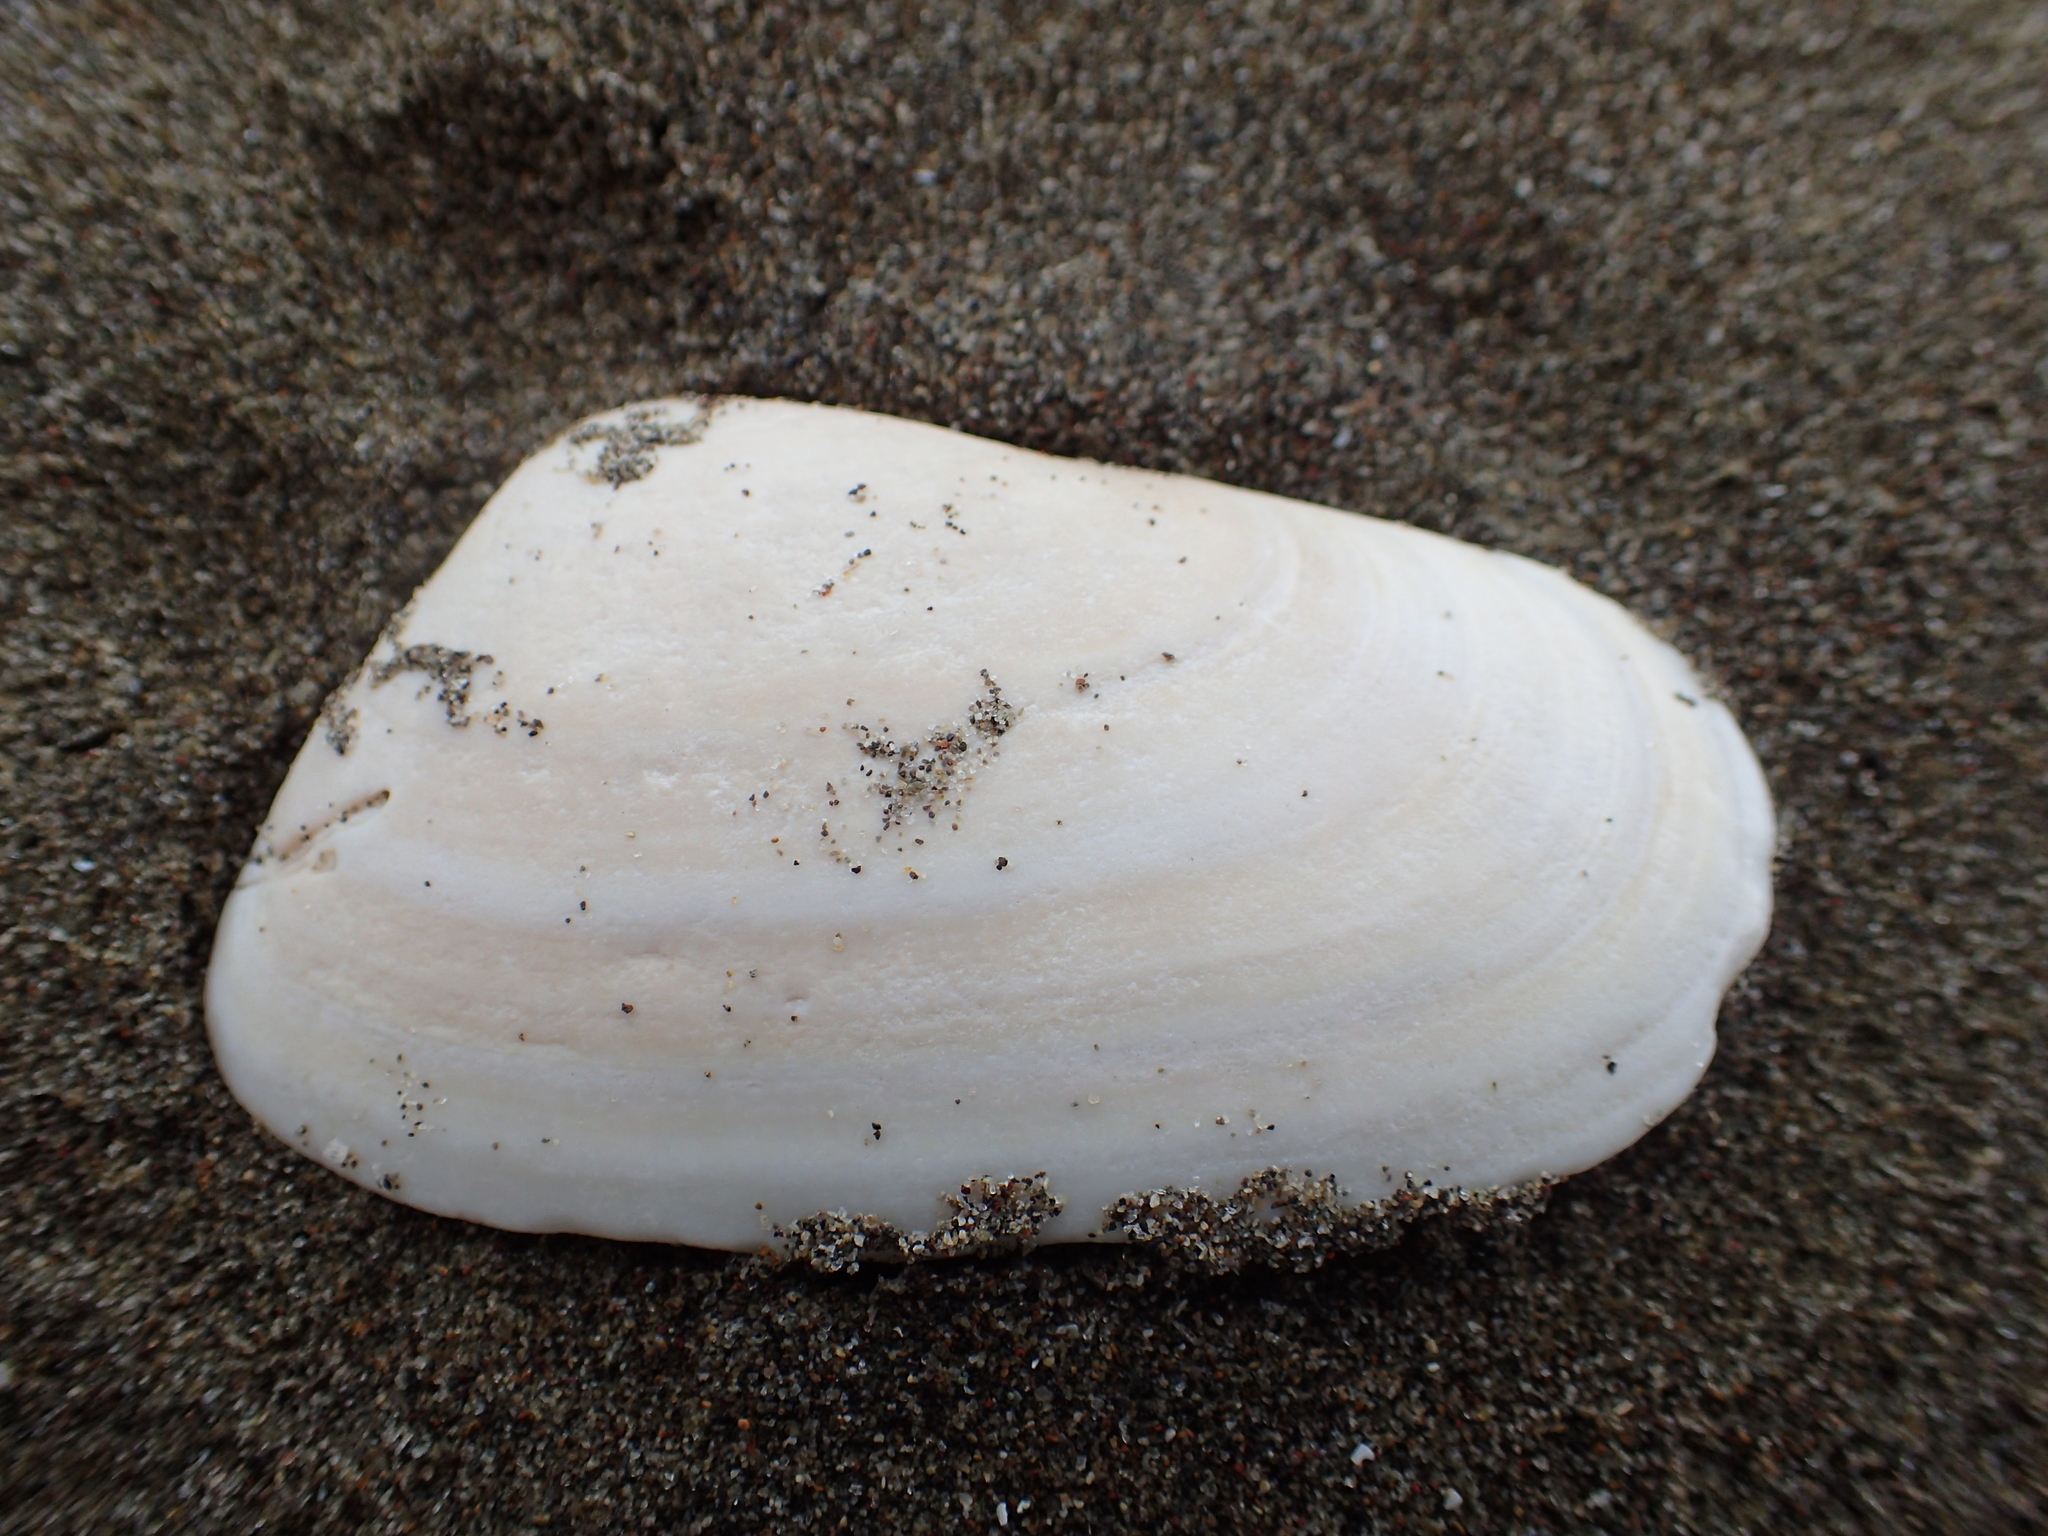tuatua: (190, 365, 1790, 1297)
